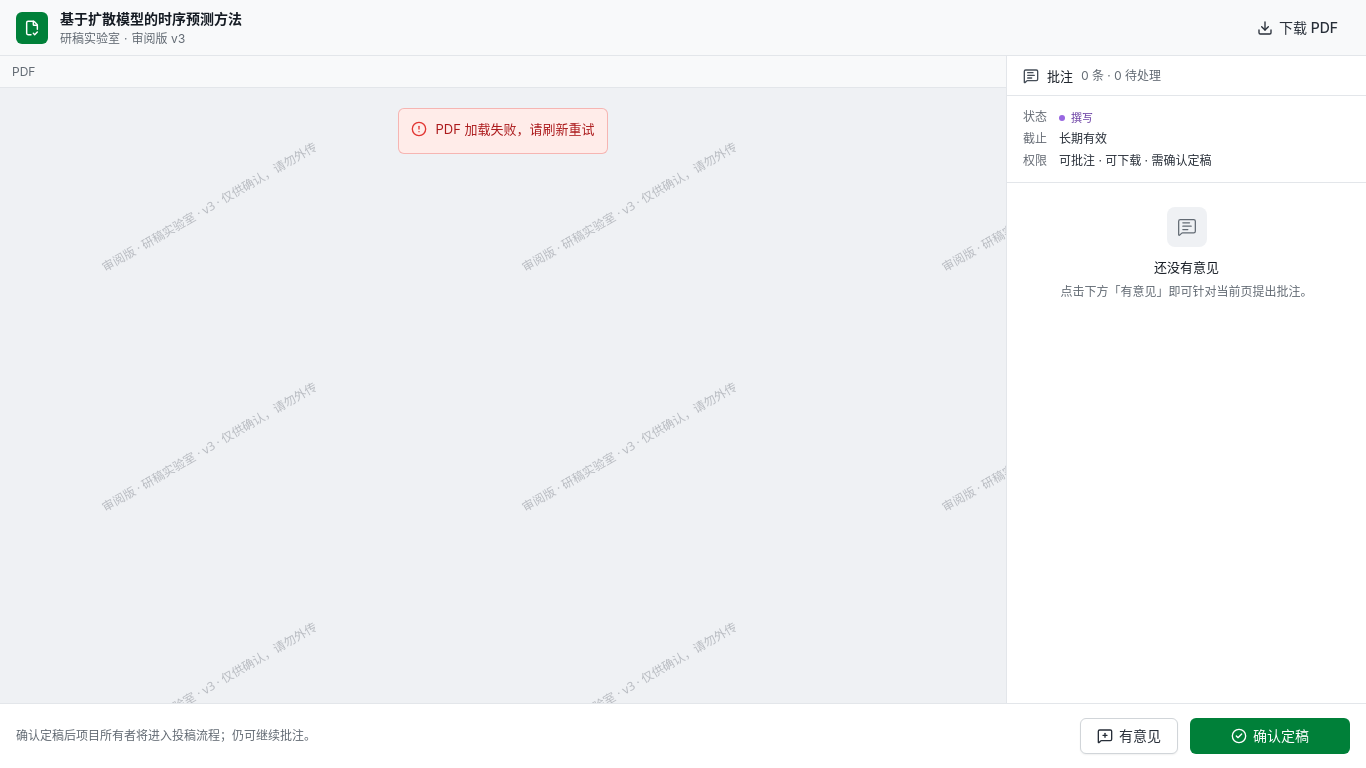
it: ClientReviewPage 论文工程适配（P1-4） › 论文模式确认定稿弹窗展示「项目所有者」与「投稿」，不泄露「代理师」
Click the button with test id "client-confirm": (1270, 736) [1190,718,1350,754]
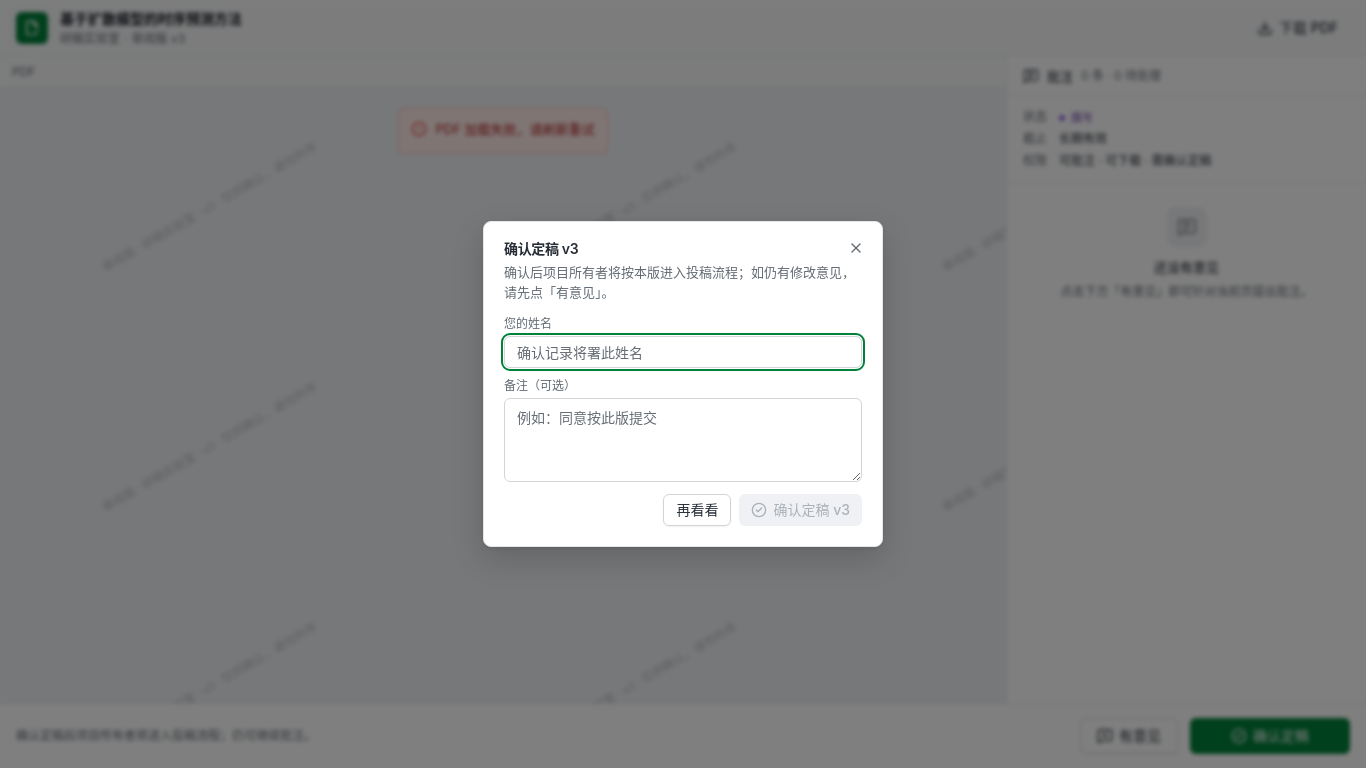
Result: the dialog with test id "client-confirm-dialog" shows "项目所有者" at [543,264,608,280]
Result: the dialog with test id "client-confirm-dialog" shows "投稿" at [686,264,712,280]
